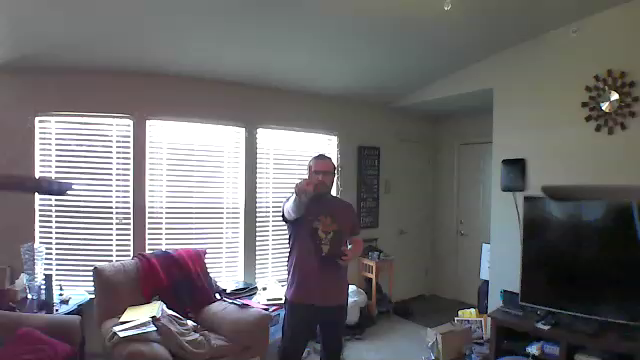up: (292, 163, 317, 203)
